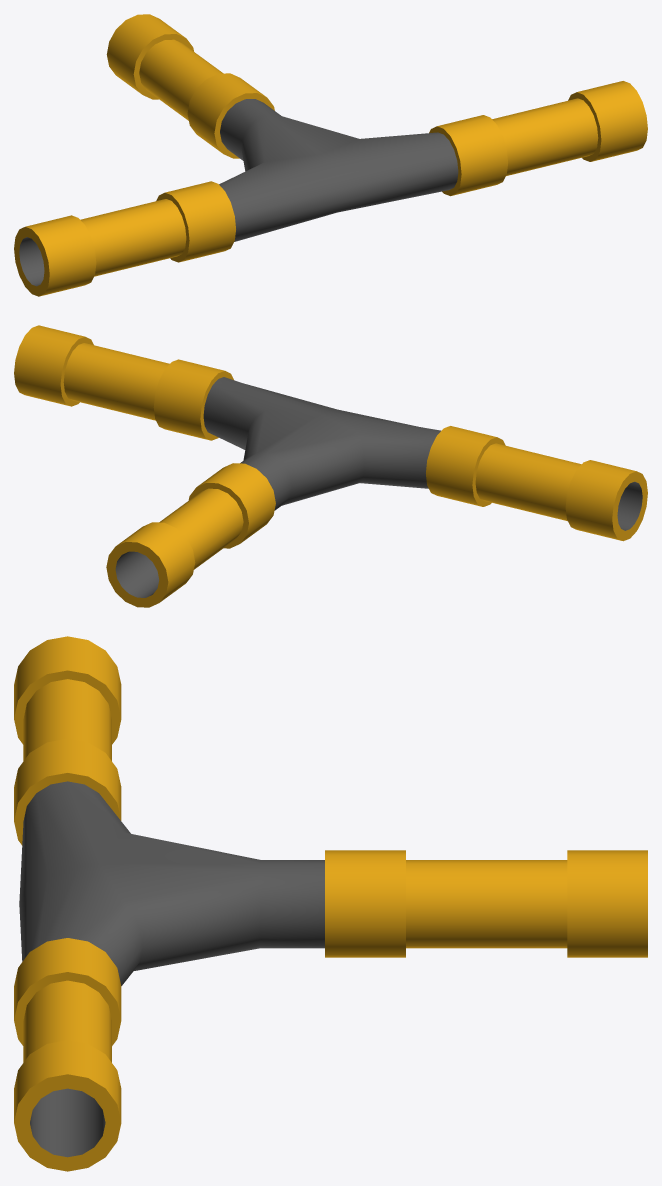
File: Hose_T-Junction.fbx
The picture shows the model from 3 angles, top to bottom: view 1: azimuth 30°, elevation 25°; view 2: azimuth 150°, elevation 25°; view 3: azimuth 270°, elevation 25°; orthographic projection. The views are drawn at different scales.
Visible parts, largest first — view 1: Hose_T-Junction; view 2: Hose_T-Junction; view 3: Hose_T-Junction.
Boxes of the visible parts, left/top/right/bottom form: Hose_T-Junction: left=14, top=14, right=647, bottom=296; Hose_T-Junction: left=14, top=325, right=647, bottom=607; Hose_T-Junction: left=14, top=636, right=647, bottom=1171.
Bounding box in the file's own units: 20.06 × 2.08 × 12.27.
